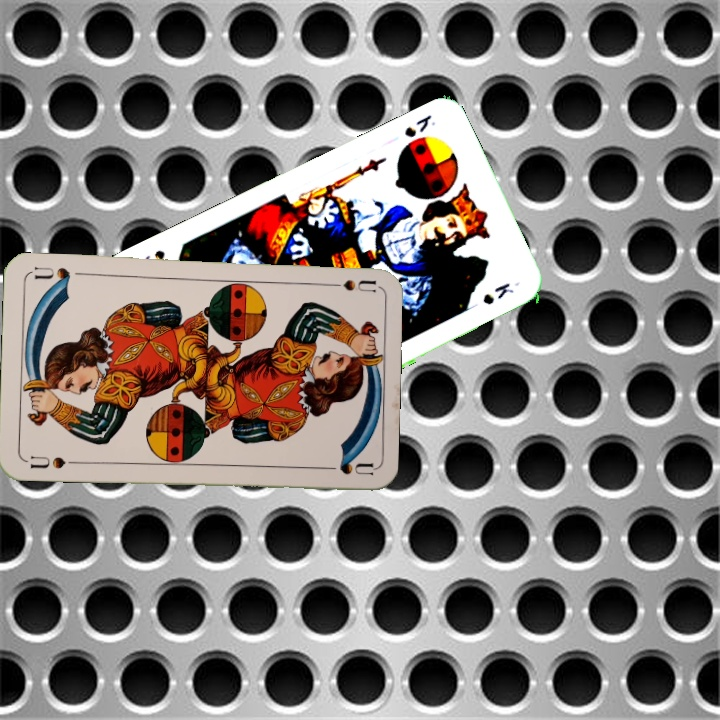SK: (400, 110, 438, 141)
SU: (318, 276, 377, 296), (23, 452, 82, 471)
